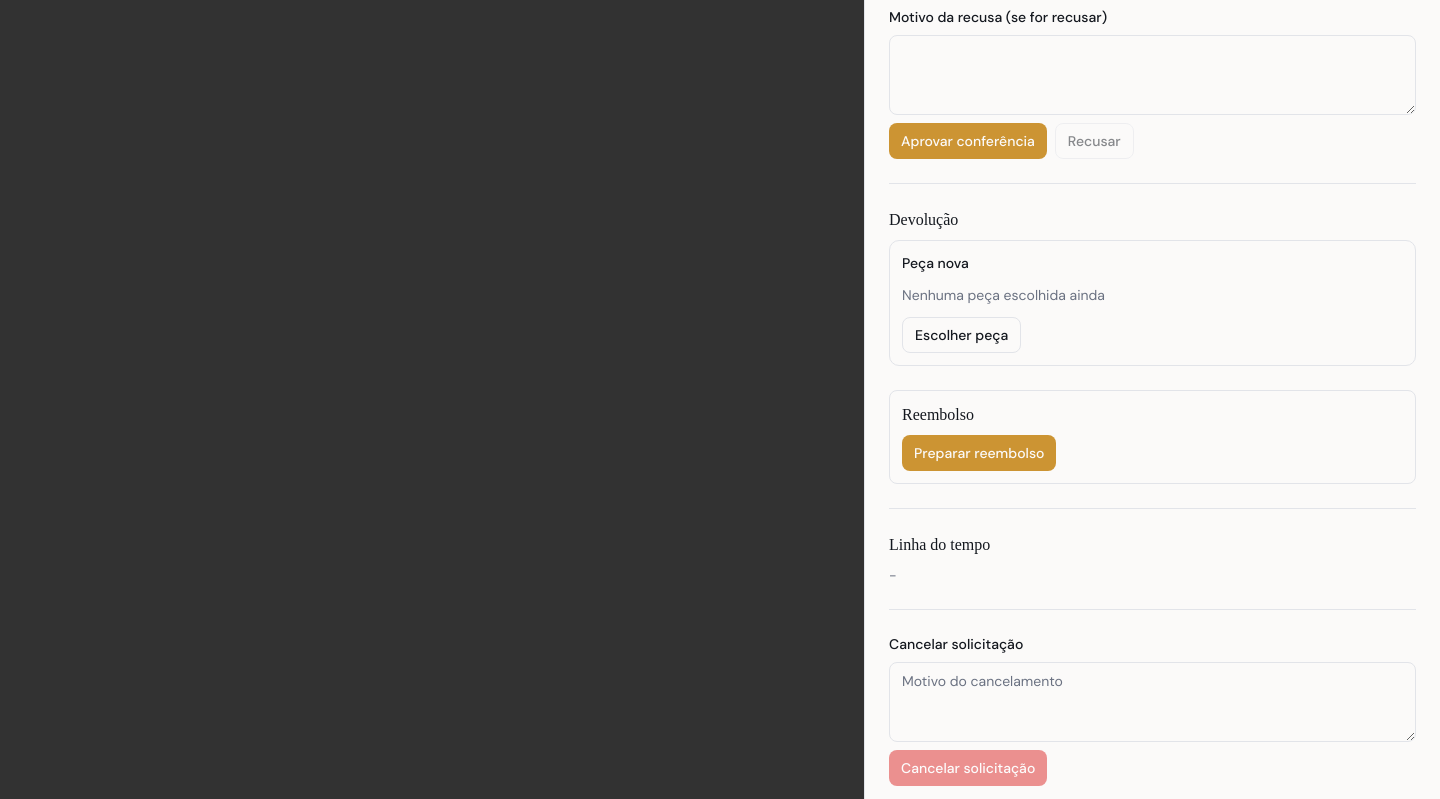
reembolso dentro da solicitação › prepara sem sair da tela e mostra o painel do reembolso
Later steps or results of the test are not shown.
(page scrolled)
What coordinates should you click on to do the following:
click the button "Preparar reembolso"
I would click on:
 (979, 453)
Its box is [902,435,1056,471].
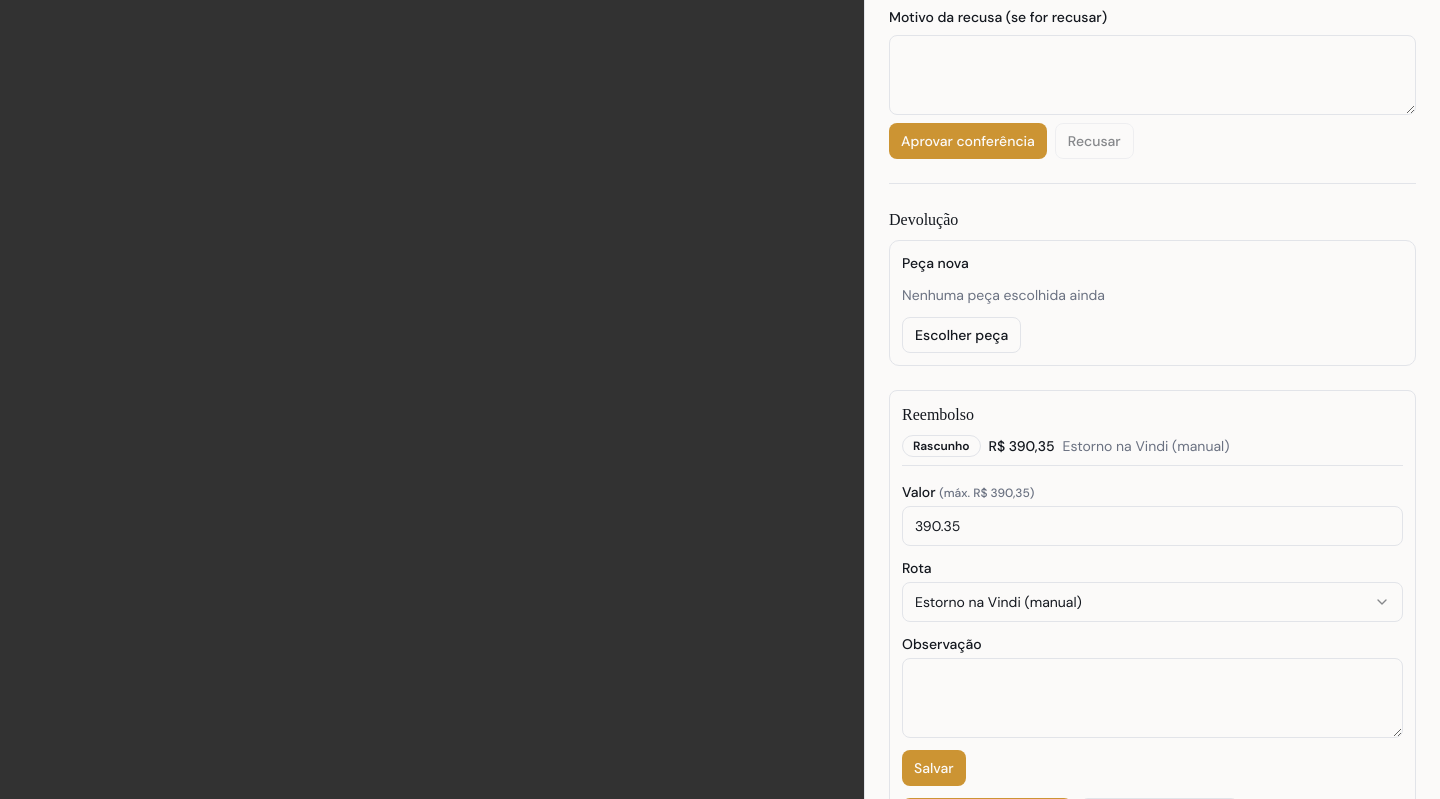
Now the text "Rascunho" is shown, box [902,435,981,457]
Now the dialog shows "Estorno na Vindi (manual)", box [1063,437,1229,455]
Now the dialog shows "máx.", box [939,485,973,501]
